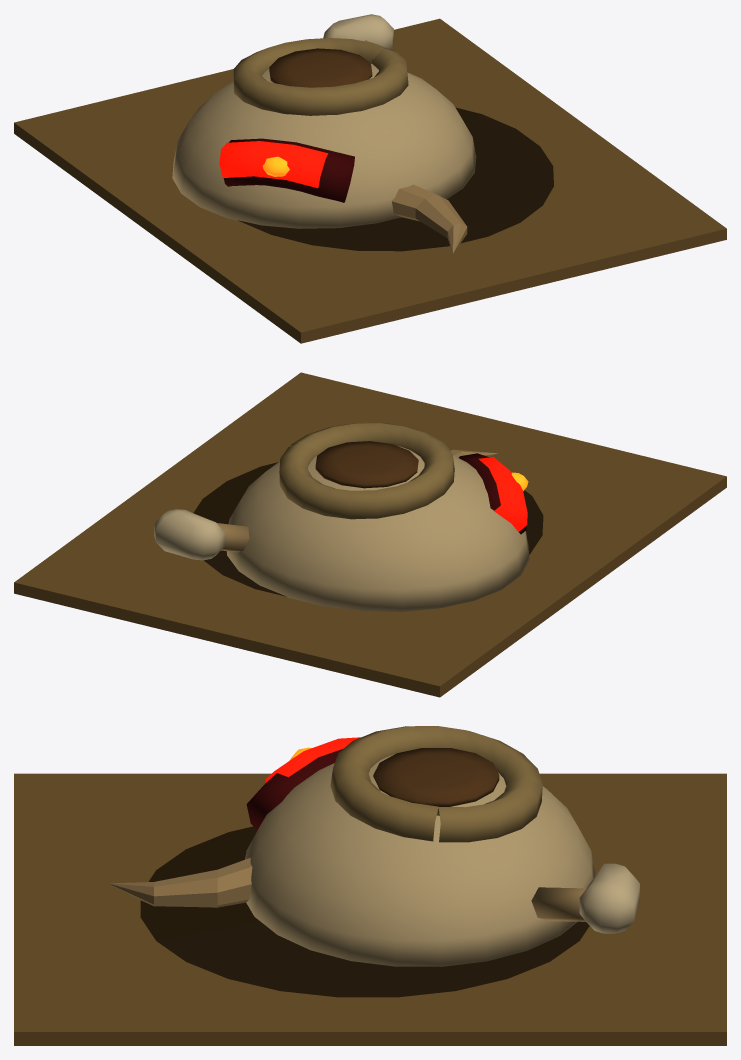
Rendered from newsha-91.glb.
3 views of the same model, one above another, from view 1: azimuth 30°, elevation 25°; view 2: azimuth 150°, elevation 25°; view 3: azimuth 270°, elevation 25° (orthographic). The views are drawn at different scales.
Parts seen in each view (by area): view 1: newsha-91; view 2: newsha-91; view 3: newsha-91.
Boxes of the visible parts, x1,y1,x2,y2 form: newsha-91: (14,14,726,343); newsha-91: (14,372,726,697); newsha-91: (14,726,726,1045).
Bounding box in the file's own units: 2 × 0.5139 × 2.33.
